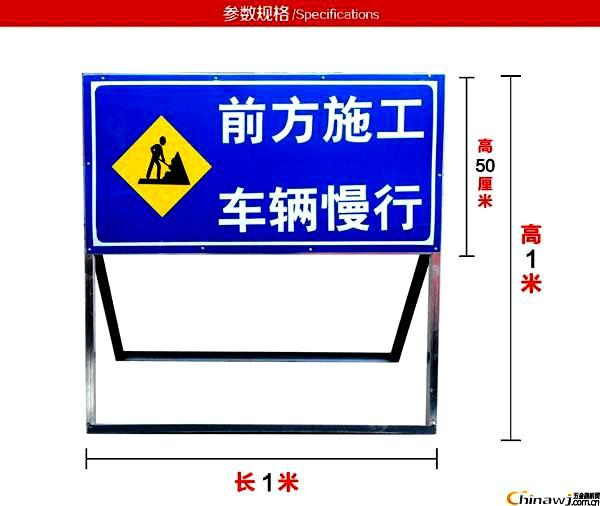sign: (85, 75, 438, 248)
